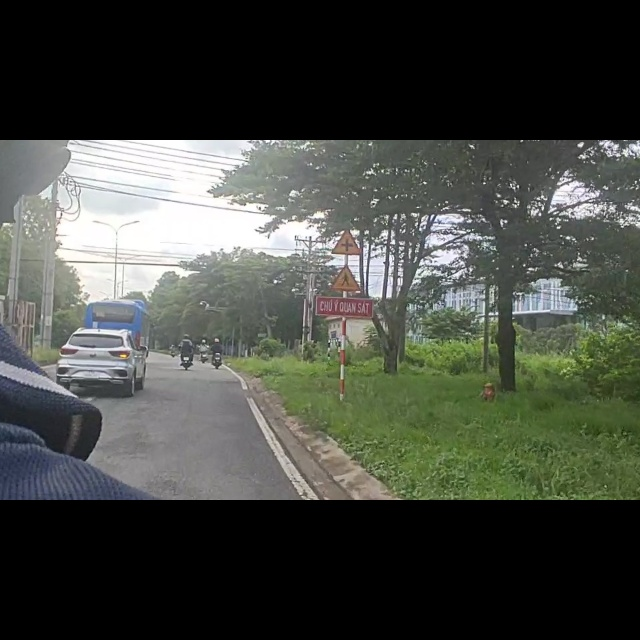bien_nguy_hiem: (328, 219, 366, 271), (331, 156, 365, 209)
